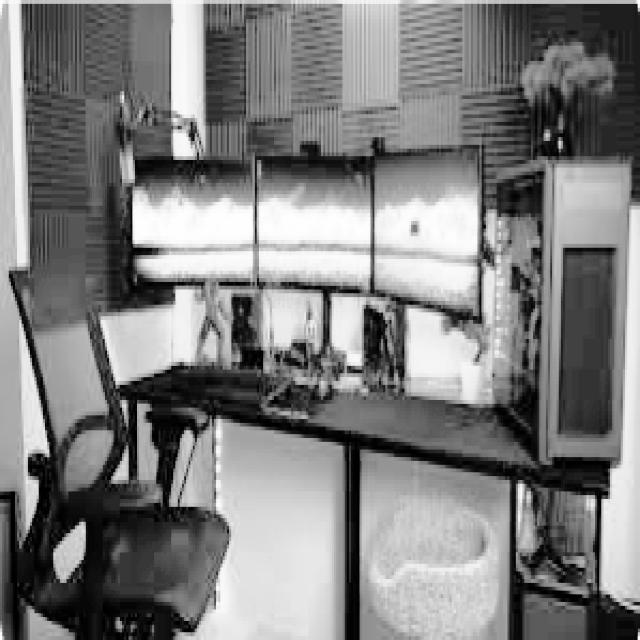book: (6, 263, 229, 636)
table: (116, 358, 610, 636)
